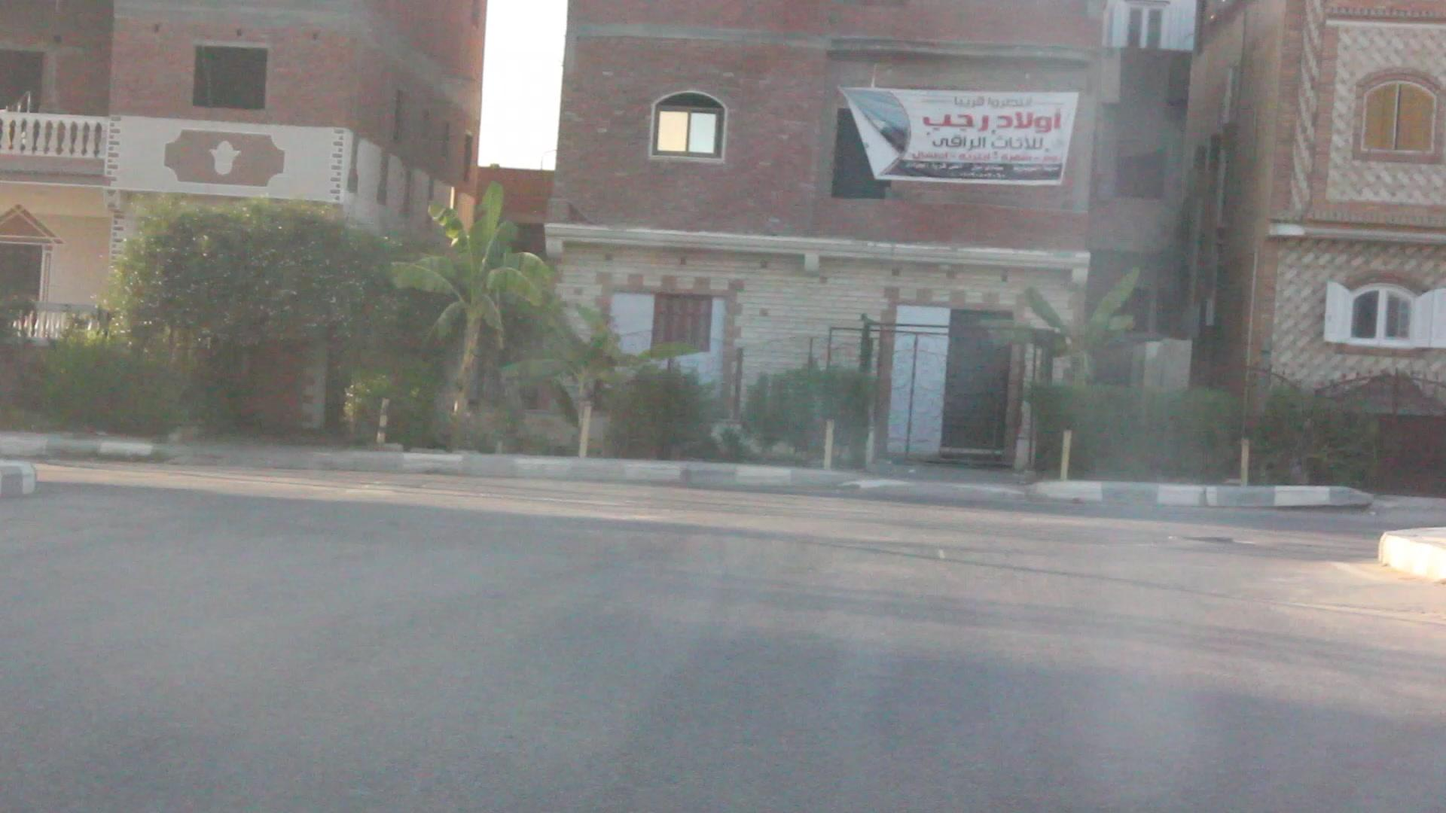Bump: (0, 494, 1445, 618)
